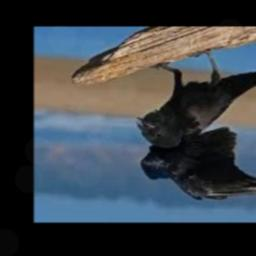Crow: (136, 47, 256, 201)
